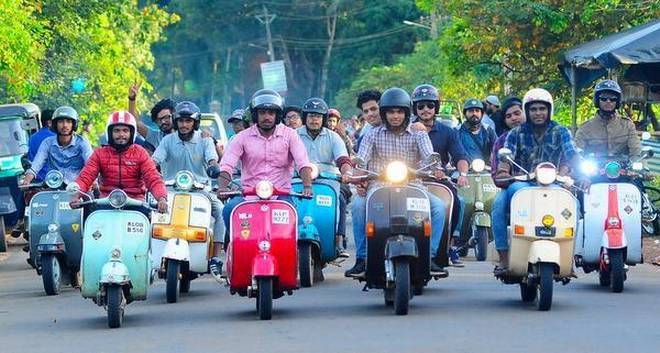helmet: (90, 108, 145, 161), (167, 94, 204, 154), (371, 97, 419, 140), (43, 100, 80, 145), (408, 85, 443, 127), (299, 95, 332, 134), (256, 96, 286, 137), (453, 105, 486, 131)
